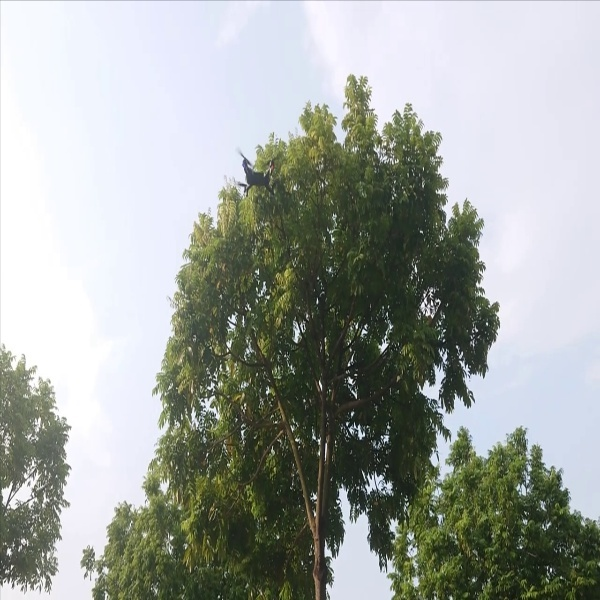drone: (223, 139, 288, 203)
